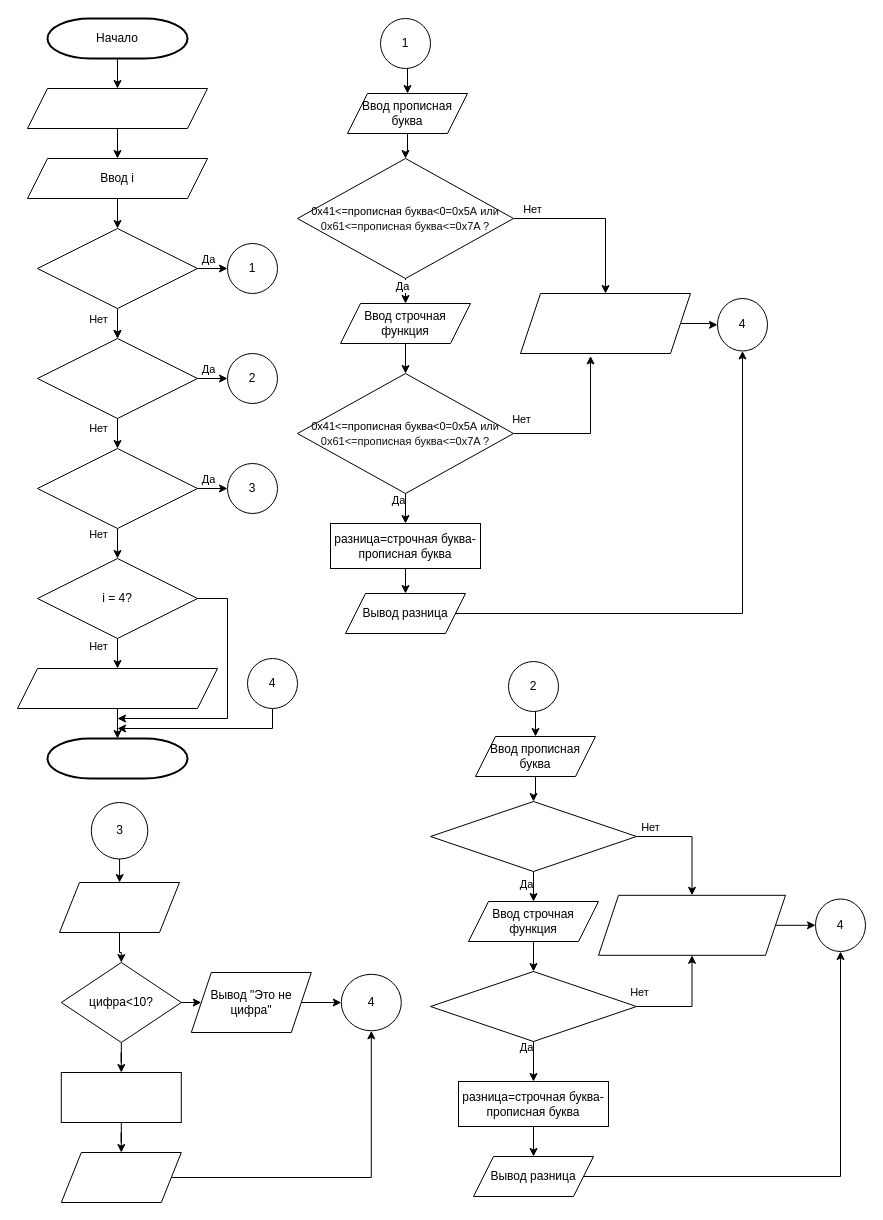
Image size: 883x1220. Some labels were removed from this diagram. The centre of each missing label's shape, as x and y in pixels:
0х C 0<=прописная буква<0=0х FF: (x=533, y=836)
0х C 0<=строчная буква<0=0х FF: (x=533, y=1006)
i = 1 ?: (x=117, y=268)
i = 2 ?: (x=117, y=378)
i = 3 ?: (x=117, y=488)
Ввод цифра: (x=119, y=907)
Вывод " Введите номер программы ( от 1 до 4)": (x=117, y=108)
Вывод " Нет такой программы": (x=117, y=688)
Вывод "Вы ввели не букву латинского алфавита": (x=605, y=323)
Вывод "Вы ввели не букву русского алфавита": (x=692, y=924)
Вывод символ: (x=120, y=1177)
Конец: (x=117, y=758)
символ = цифра: (x=120, y=1097)
